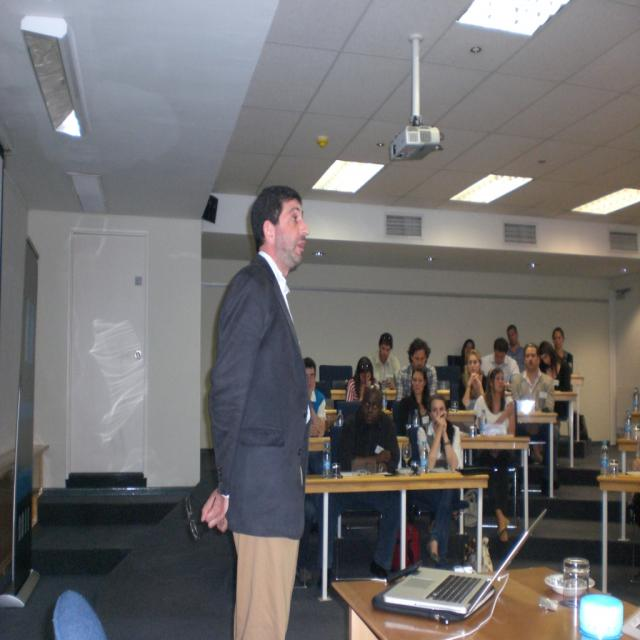desk: (300, 464, 510, 606)
laptop: (371, 508, 548, 619)
person: (202, 184, 310, 639), (418, 397, 463, 569), (338, 382, 401, 476), (473, 367, 517, 435)
